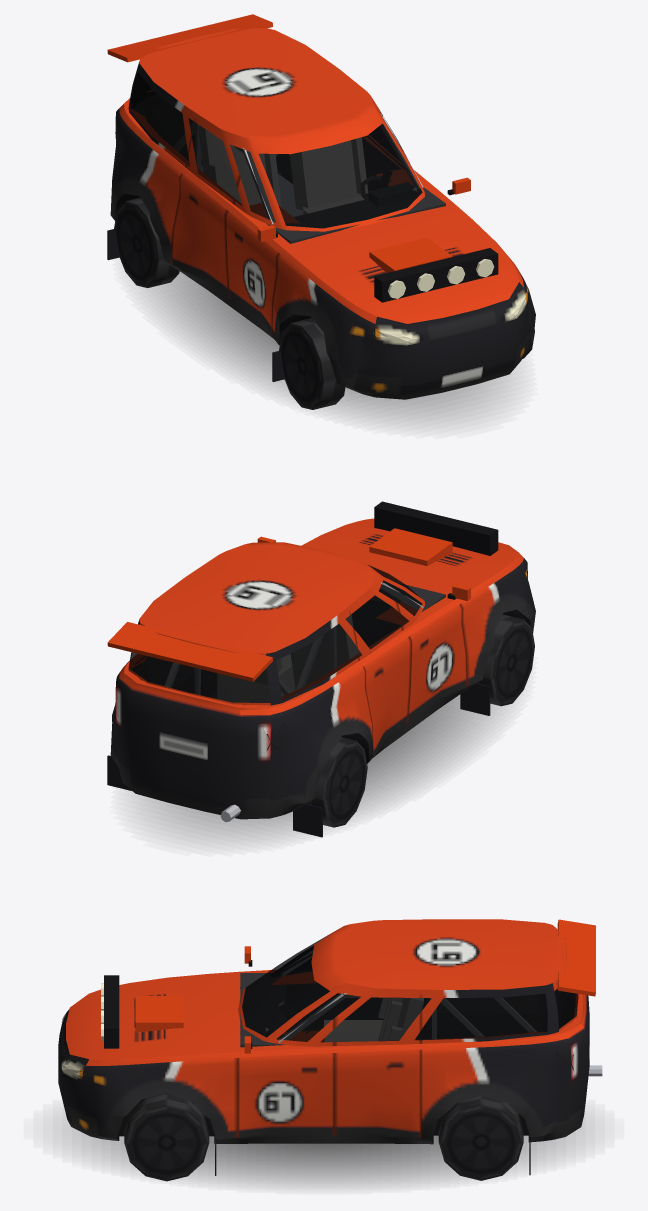
The model's file is aracati.glb.
3 renders of one model, top to bottom at view 1: azimuth 30°, elevation 25°; view 2: azimuth 150°, elevation 25°; view 3: azimuth 270°, elevation 25°, orthographic. The views are drawn at different scales.
Visible parts, largest first — view 1: Carroceria, Capo_malha, Interior, Sombra, Porta_TD_malha, Porta_D_malha, Roda_DD, Roda_TD, Tampa_malha, Farol; view 2: Carroceria, Tampa_malha, Capo_malha, Sombra, Interior, Porta_TD_malha, Porta_D_malha, Roda_DD, Roda_TD; view 3: Carroceria, Interior, Sombra, Porta_TE_malha, Capo_malha, Porta_E_malha, Roda_DE, Roda_TE, Tampa_malha, Porta_D_malha.
Part boxes in pixels (box(x1,y1,x2,y2)): Carroceria: box(107, 28, 535, 399); Capo_malha: box(296, 213, 523, 323); Interior: box(133, 94, 445, 243); Sombra: box(143, 272, 512, 424); Porta_TD_malha: box(172, 114, 253, 297); Porta_D_malha: box(225, 152, 282, 334); Roda_DD: box(279, 318, 345, 409); Roda_TD: box(114, 197, 179, 287); Tampa_malha: box(107, 14, 272, 107); Farol: box(373, 293, 527, 344); Carroceria: box(107, 524, 535, 837); Tampa_malha: box(107, 622, 272, 800); Capo_malha: box(307, 501, 523, 590); Sombra: box(135, 695, 504, 842); Interior: box(131, 581, 445, 702); Porta_TD_malha: box(348, 574, 410, 756); Porta_D_malha: box(383, 578, 470, 723); Roda_DD: box(477, 614, 534, 706); Roda_TD: box(307, 737, 367, 827); Carroceria: box(58, 919, 602, 1175); Interior: box(240, 951, 574, 1047); Sombra: box(62, 1116, 585, 1186); Porta_TE_malha: box(335, 983, 420, 1139); Capo_malha: box(71, 975, 222, 1065); Porta_E_malha: box(237, 992, 334, 1138); Roda_DE: box(124, 1093, 209, 1181); Roda_TE: box(438, 1095, 523, 1180); Tampa_malha: box(553, 919, 595, 1114); Porta_D_malha: box(244, 946, 313, 975).
Size of the model in its own units: 2.52 by 1.57 by 4.89.
Materials: 14 (5 with a texture image).
